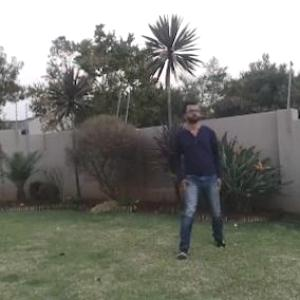follow: (168, 89, 227, 267)
